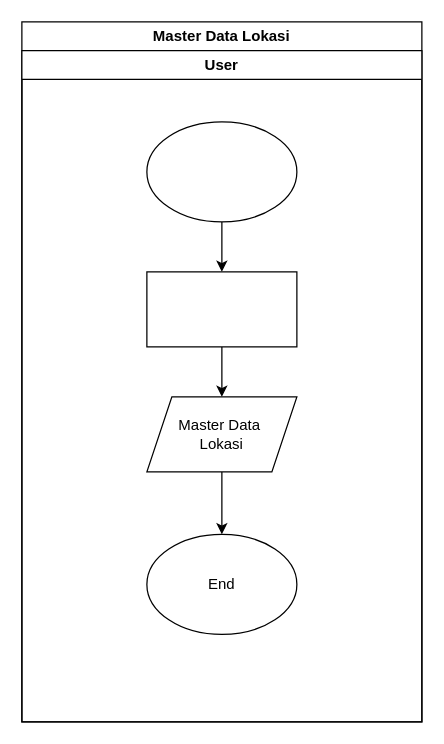
This 444x744 diagram has some shape labels left out. The shapes that lost their labels are listed below. From the top down, each one's box as (x1, y1, x2, y2) in pixels, then its label:
(146, 121, 297, 222): Start
(146, 271, 297, 347): Create Master Data Lokasi
